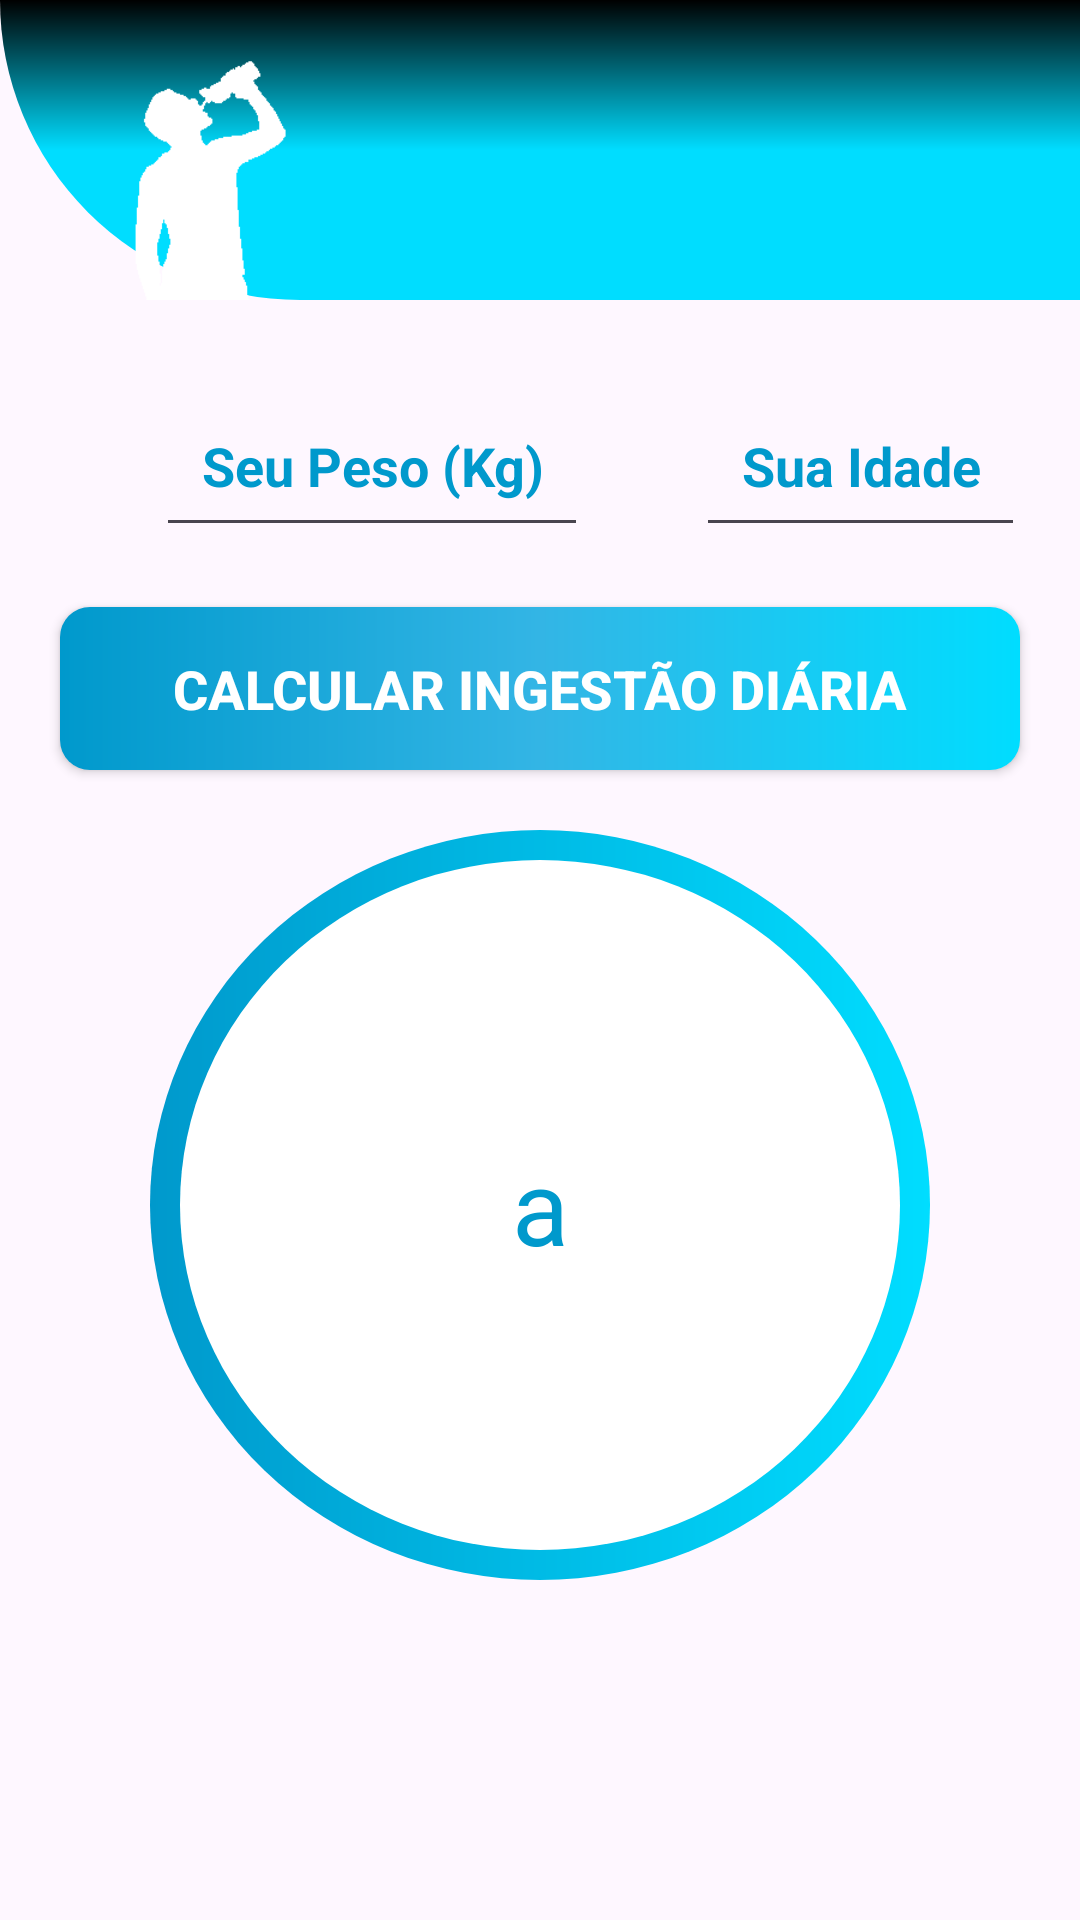

Icon click points for this 1080 x 1920 phone screenshot, format [x,y]:
bebe agua: [210,180]
